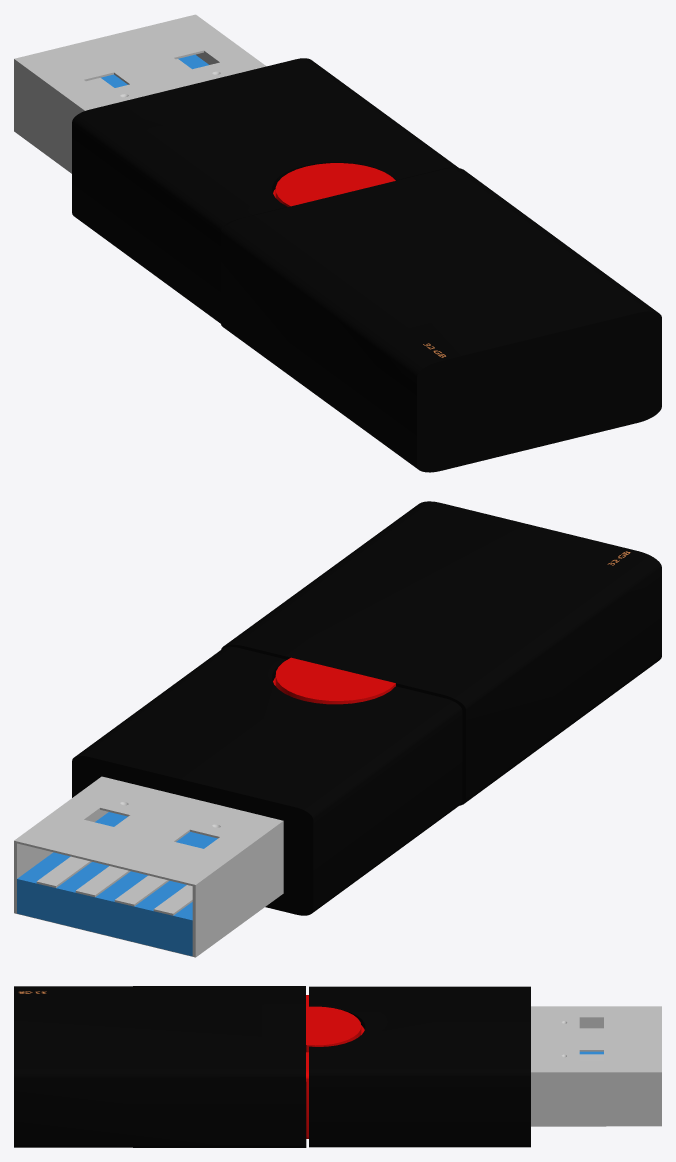
File: USB.glb
3 views of the same model, one above another, from view 1: azimuth 30°, elevation 25°; view 2: azimuth 150°, elevation 25°; view 3: azimuth 270°, elevation 25° (orthographic). The views are drawn at different scales.
Visible parts, largest first — view 1: USB, USB Slider; view 2: USB, USB Slider; view 3: USB, USB Slider.
Boxes of the visible parts, x1,y1,x2,y2 form: USB: (14, 14, 661, 472); USB Slider: (72, 58, 458, 323); USB: (14, 501, 661, 957); USB Slider: (72, 646, 462, 915); USB: (14, 986, 661, 1147); USB Slider: (309, 986, 530, 1147).
Bounding box in the file's own units: 22.23 × 9.52 × 68.28.
Materials: 4 (1 with a texture image).
